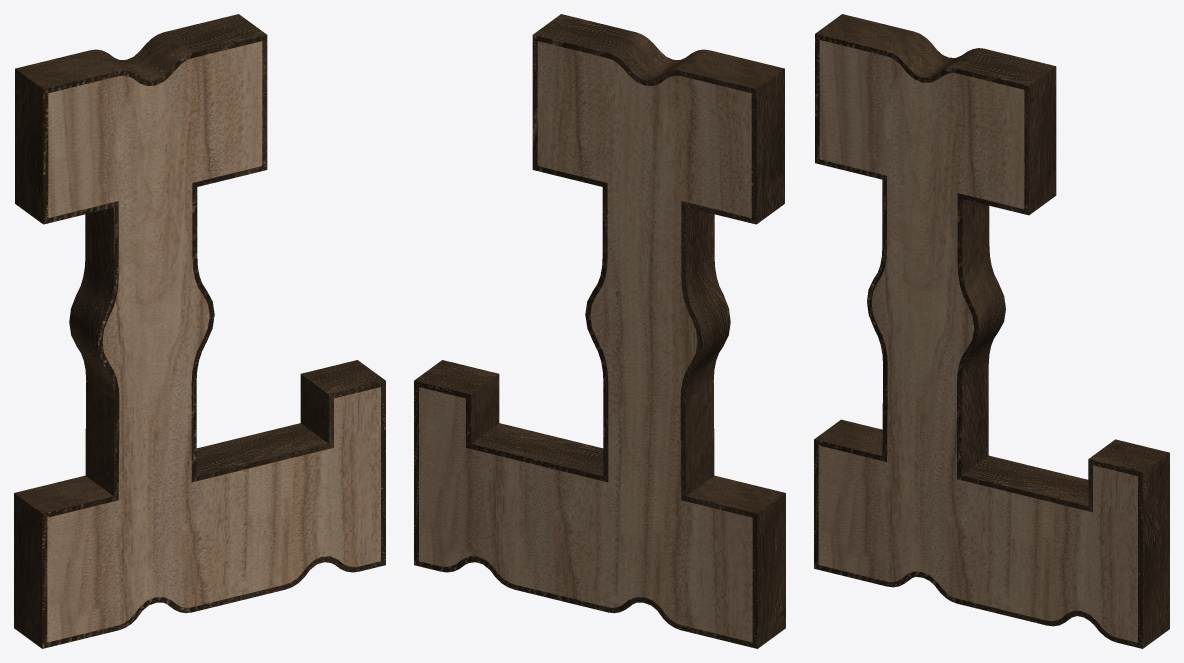
The picture shows the model from 3 angles, left to right: view 1: azimuth 30°, elevation 25°; view 2: azimuth 150°, elevation 25°; view 3: azimuth 330°, elevation 25°; orthographic projection. The views are drawn at different scales.
Parts seen in each view (by area): view 1: L, L_outline; view 2: L, L_outline; view 3: L, L_outline.
Boxes of the visible parts, left/top/right/bottom form: L: left=47, top=41, right=380, bottom=642; L_outline: left=14, top=14, right=385, bottom=648; L: left=419, top=41, right=752, bottom=642; L_outline: left=414, top=14, right=785, bottom=648; L: left=818, top=40, right=1137, bottom=642; L_outline: left=814, top=14, right=1169, bottom=648.
Bounding box in the file's own units: 69.95 × 109 × 10.
2 materials, 2 textured.
